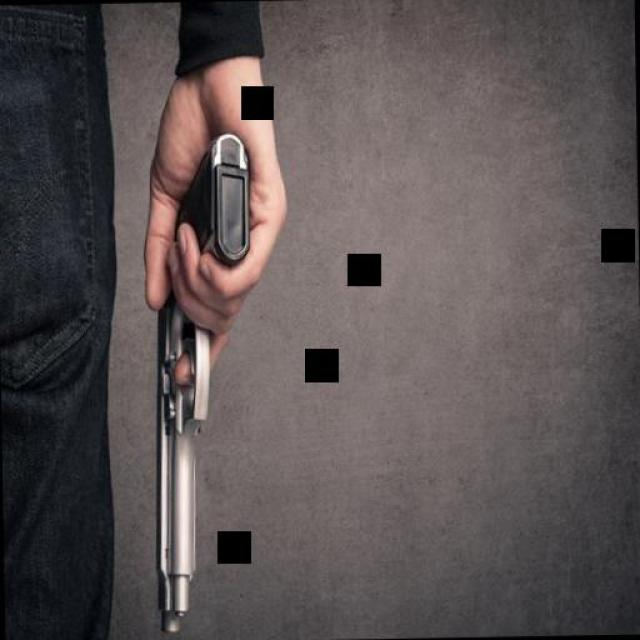gun: (146, 131, 255, 631)
